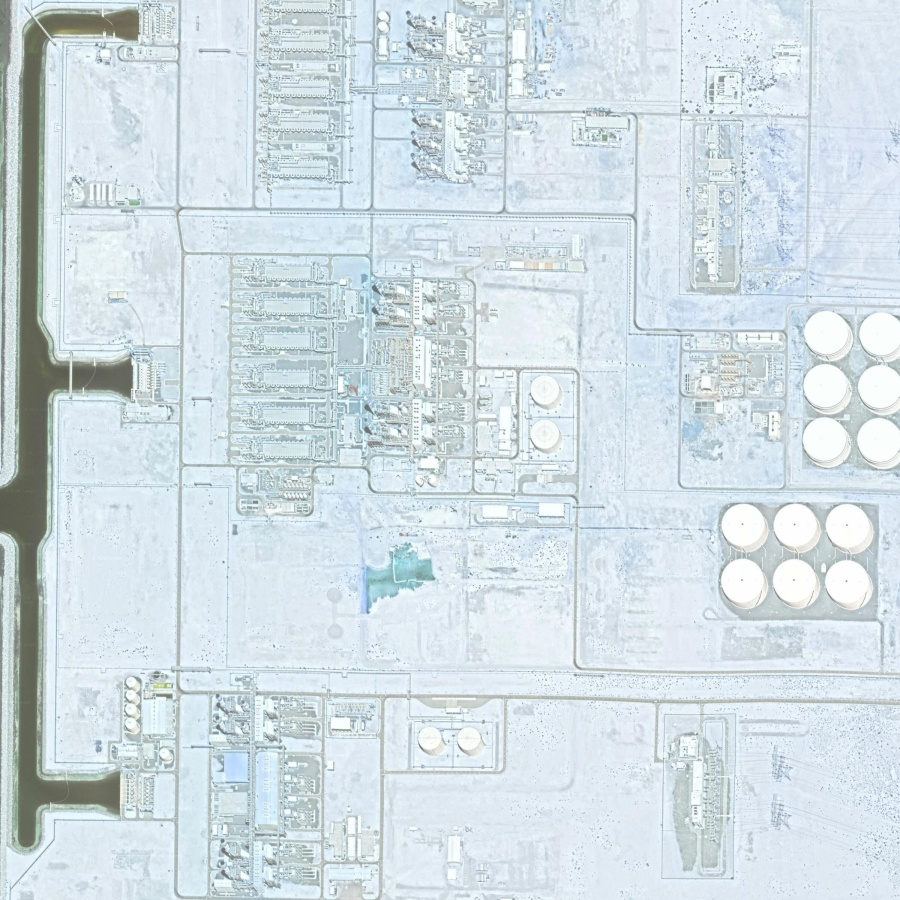PowerPlant: (214, 249, 576, 529)
